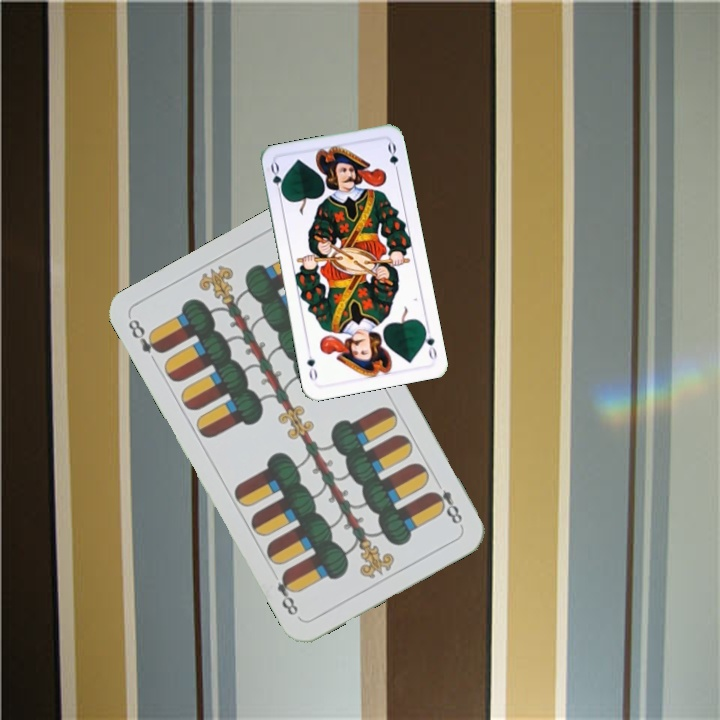E8: (124, 314, 166, 356), (427, 485, 465, 529)
GO: (266, 159, 287, 200), (419, 322, 440, 362)
